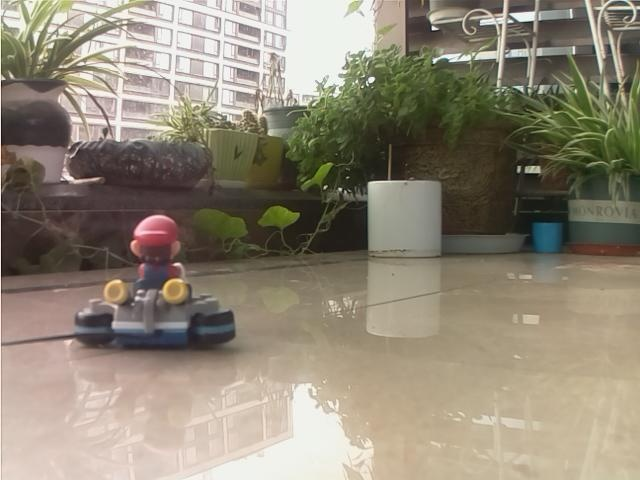mario: (67, 207, 242, 359)
